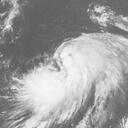cyclone: (12, 31, 125, 117)
